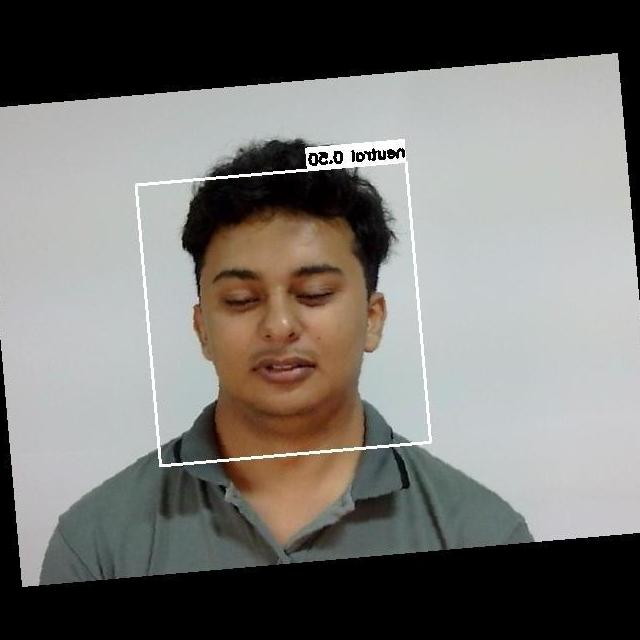Sad: (187, 242, 374, 399)
